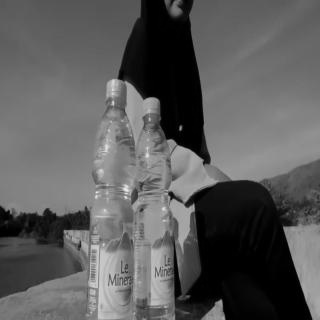plastic_bottles: (88, 79, 176, 320)
